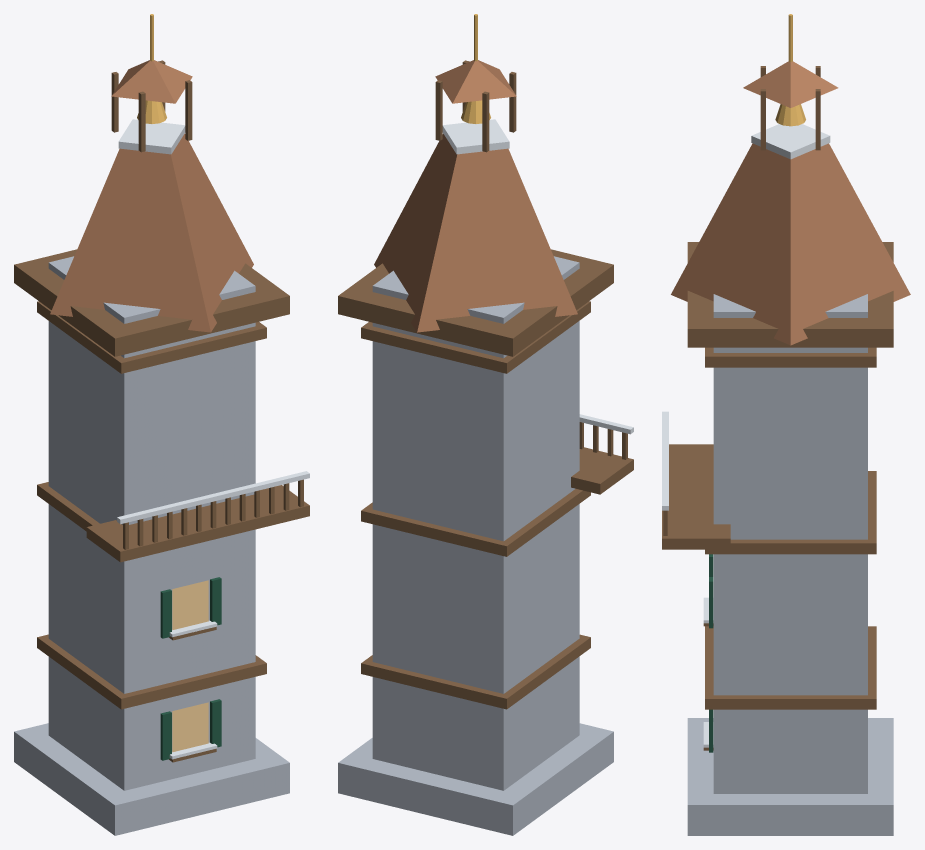
File: clock_tower.glb
3 renders of one model, left to right at view 1: azimuth 30°, elevation 25°; view 2: azimuth 150°, elevation 25°; view 3: azimuth 270°, elevation 25°, orthographic.
Parts seen in each view (by area): view 1: clock_tower_stone, clock_tower_wood, clock_tower_copper, clock_tower_snow, clock_tower_window, clock_tower_green, clock_tower_gold; view 2: clock_tower_stone, clock_tower_copper, clock_tower_wood, clock_tower_snow, clock_tower_gold; view 3: clock_tower_stone, clock_tower_copper, clock_tower_wood, clock_tower_snow, clock_tower_gold, clock_tower_green.
Part boxes in pixels (x1=…): clock_tower_stone: x1=14, y1=256, x2=289, y2=835; clock_tower_wood: x1=14, y1=60, x2=309, y2=762; clock_tower_copper: x1=50, y1=60, x2=253, y2=332; clock_tower_snow: x1=117, y1=119, x2=309, y2=759; clock_tower_window: x1=172, y1=580, x2=208, y2=752; clock_tower_green: x1=160, y1=577, x2=221, y2=760; clock_tower_gold: x1=137, y1=14, x2=166, y2=123; clock_tower_stone: x1=338, y1=256, x2=613, y2=835; clock_tower_copper: x1=374, y1=60, x2=577, y2=332; clock_tower_wood: x1=338, y1=60, x2=633, y2=709; clock_tower_snow: x1=442, y1=119, x2=633, y2=434; clock_tower_gold: x1=461, y1=14, x2=490, y2=123; clock_tower_stone: x1=687, y1=294, x2=893, y2=835; clock_tower_copper: x1=671, y1=61, x2=910, y2=345; clock_tower_wood: x1=662, y1=66, x2=893, y2=750; clock_tower_snow: x1=662, y1=124, x2=830, y2=747; clock_tower_gold: x1=775, y1=14, x2=805, y2=126; clock_tower_green: x1=709, y1=554, x2=713, y2=752.
Size of the model in its own units: 14 by 50 by 14.5.
